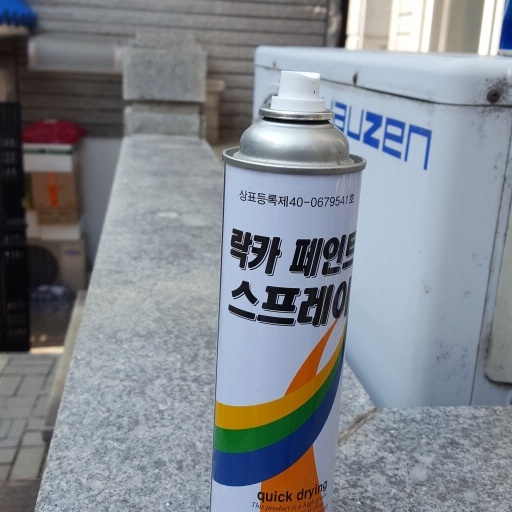Metal_0: (210, 68, 366, 512)
